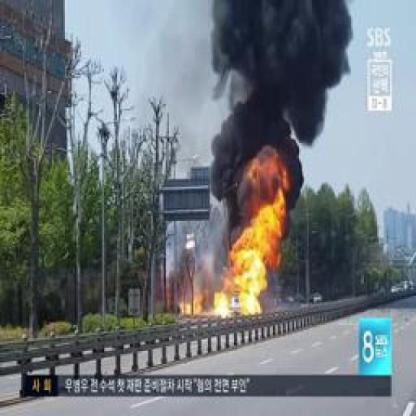fire: (228, 184, 290, 316), (214, 286, 227, 318), (180, 299, 202, 315)
